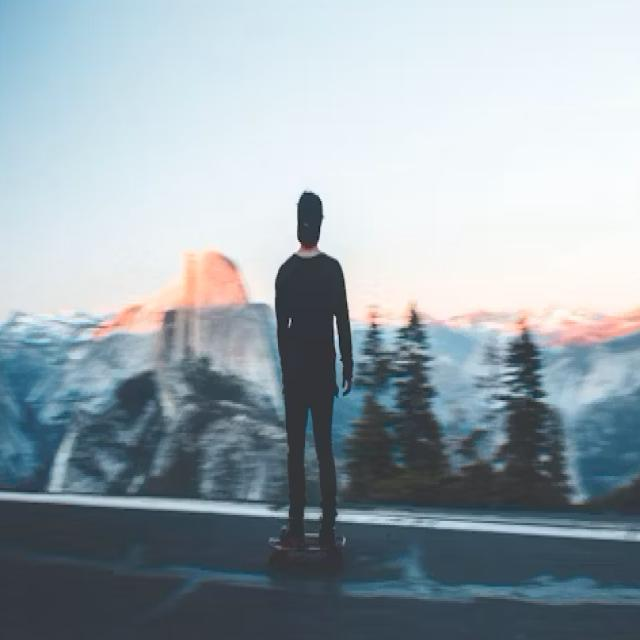Edited images: (260, 172, 369, 574)
